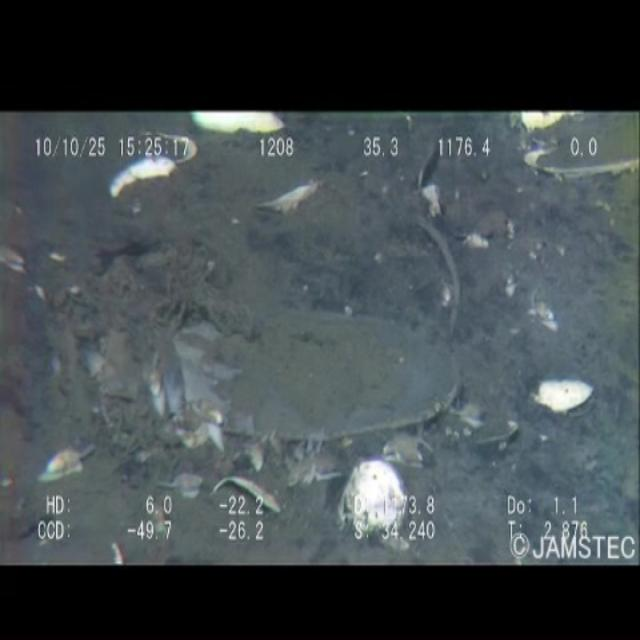Natual-Debris: (92, 218, 490, 461)
